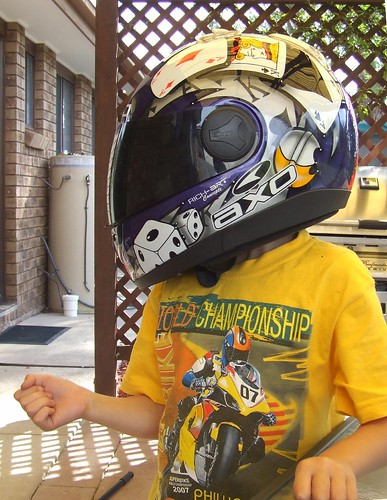helmet: (104, 14, 358, 295)
